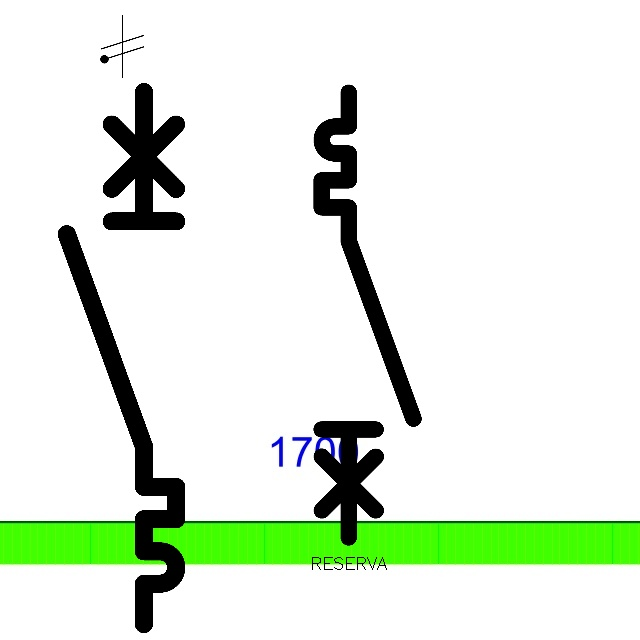interruptor_termomagnetico: (53, 78, 190, 638), (310, 81, 424, 549)
